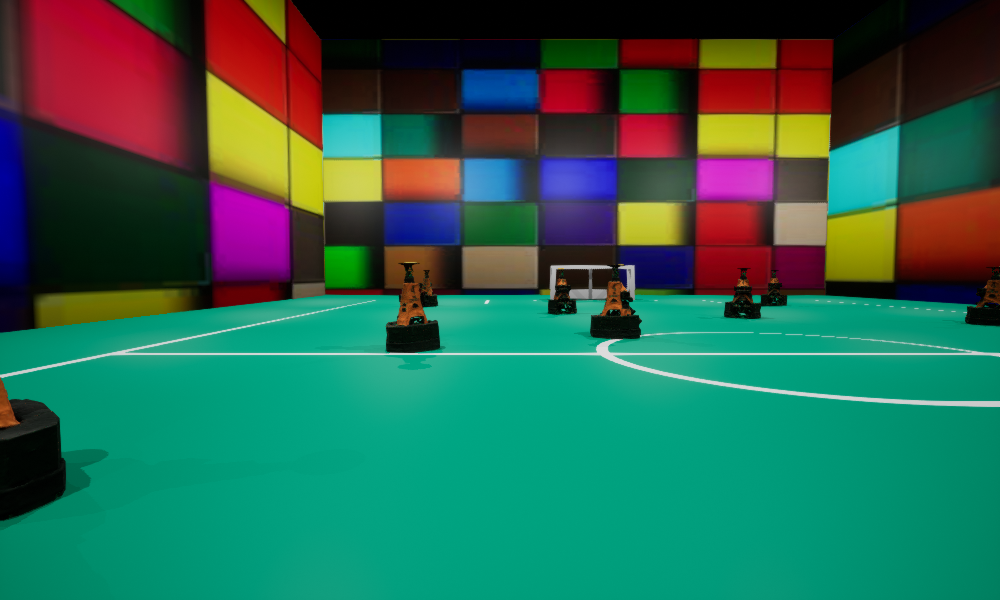0 orange robot TechUnited: (0, 377, 65, 520), (386, 262, 439, 352), (590, 264, 641, 338), (965, 266, 999, 325), (724, 268, 760, 317), (548, 268, 576, 314), (761, 270, 786, 305), (419, 270, 437, 306)
